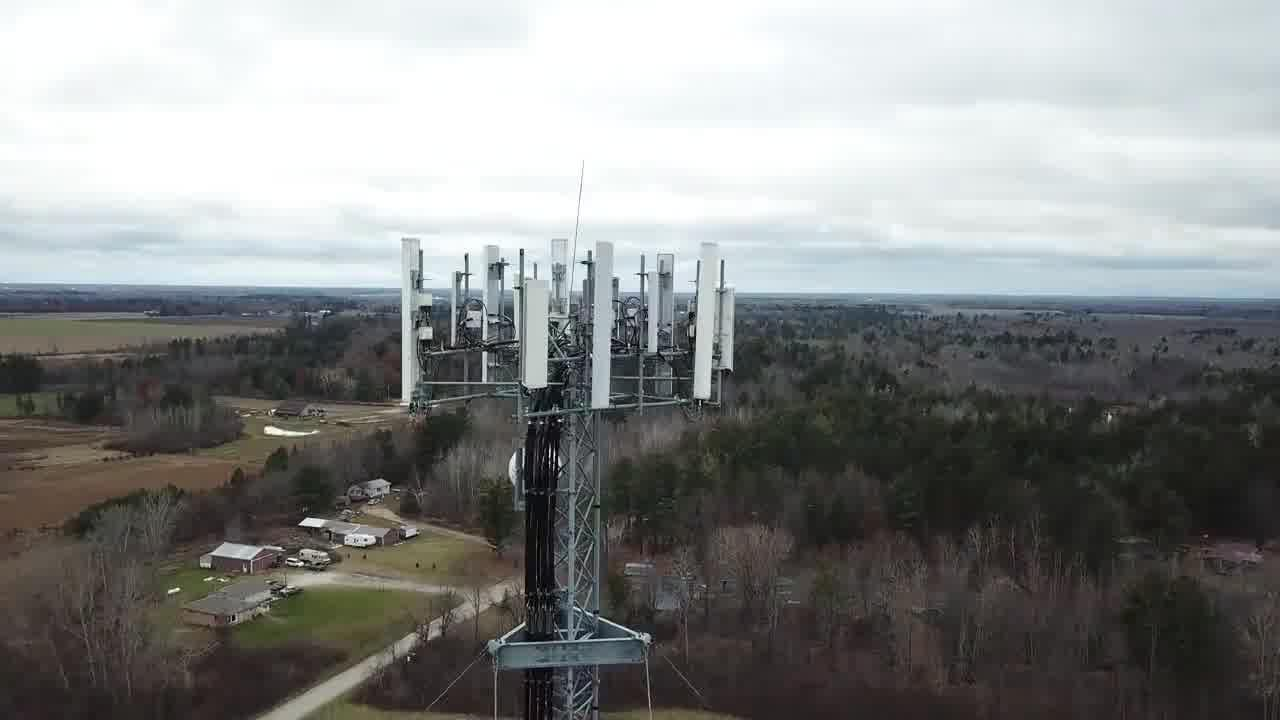Microwave Antenna: (505, 447, 538, 500)
antenna: (399, 222, 431, 413), (690, 235, 722, 411), (588, 238, 618, 415), (519, 273, 554, 398), (479, 239, 506, 396), (646, 270, 662, 358)
